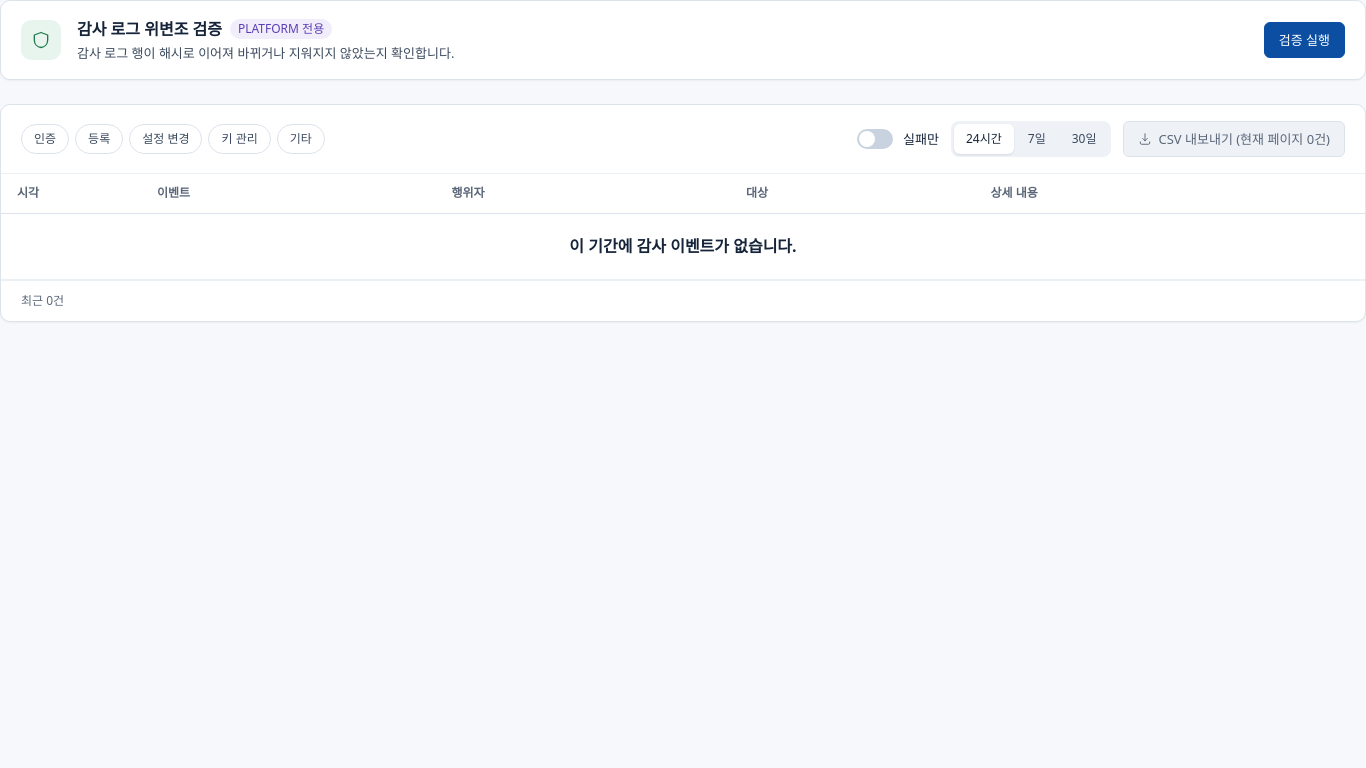
AuditTab V2 › 체인 검증 카드는 PLATFORM 전용, 검증 실행 → 결과 배지
The image size is (1366, 768).
Expected: the heading "감사 로그 위변조 검증" is shown, [77, 17, 222, 41]
Expected: the text "PLATFORM 전용" is shown, [230, 19, 332, 39]
Step 1. Click the button "검증 실행" → (1304, 40), box [1264, 22, 1345, 58]
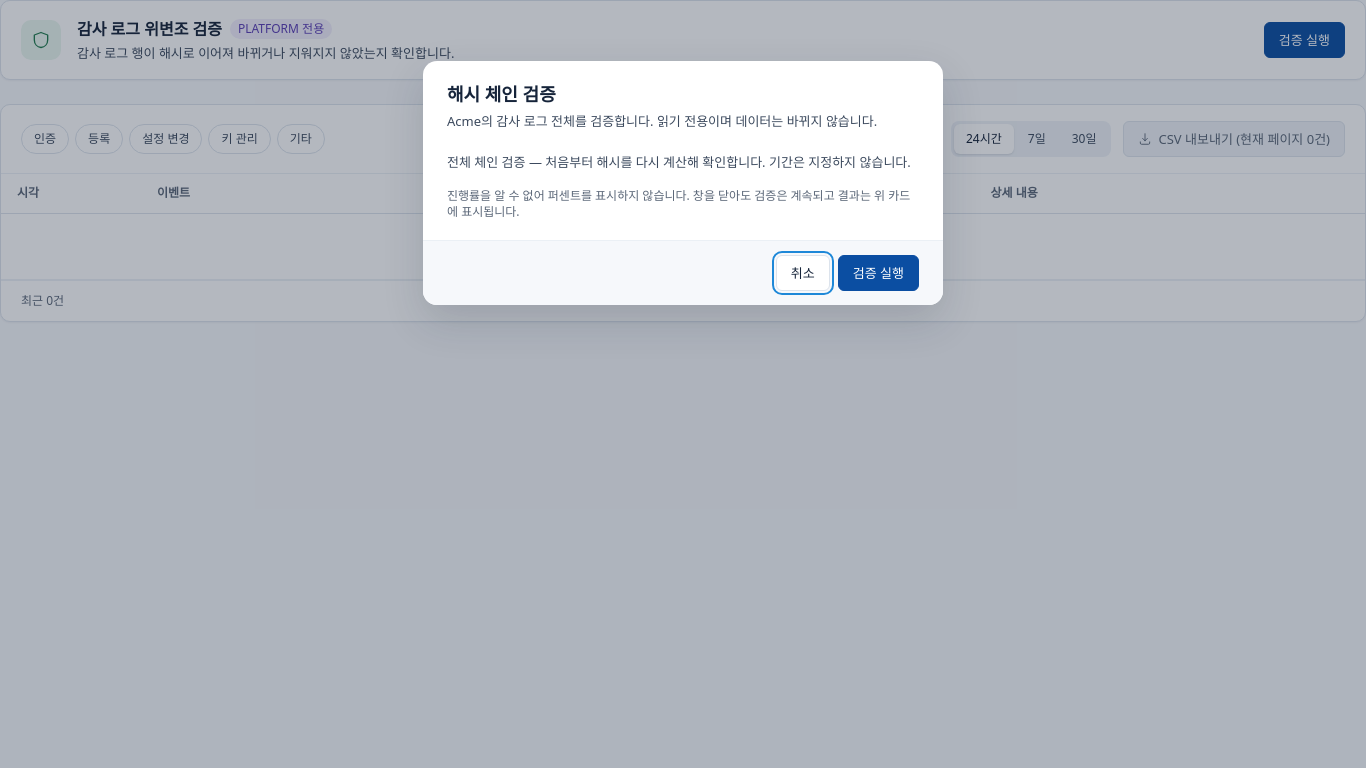
Now the dialog "해시 체인 검증" shows "전체 체인 검증", box [447, 153, 911, 171]
Step 2. Click the button "검증 실행" → (878, 273), box [838, 255, 919, 291]
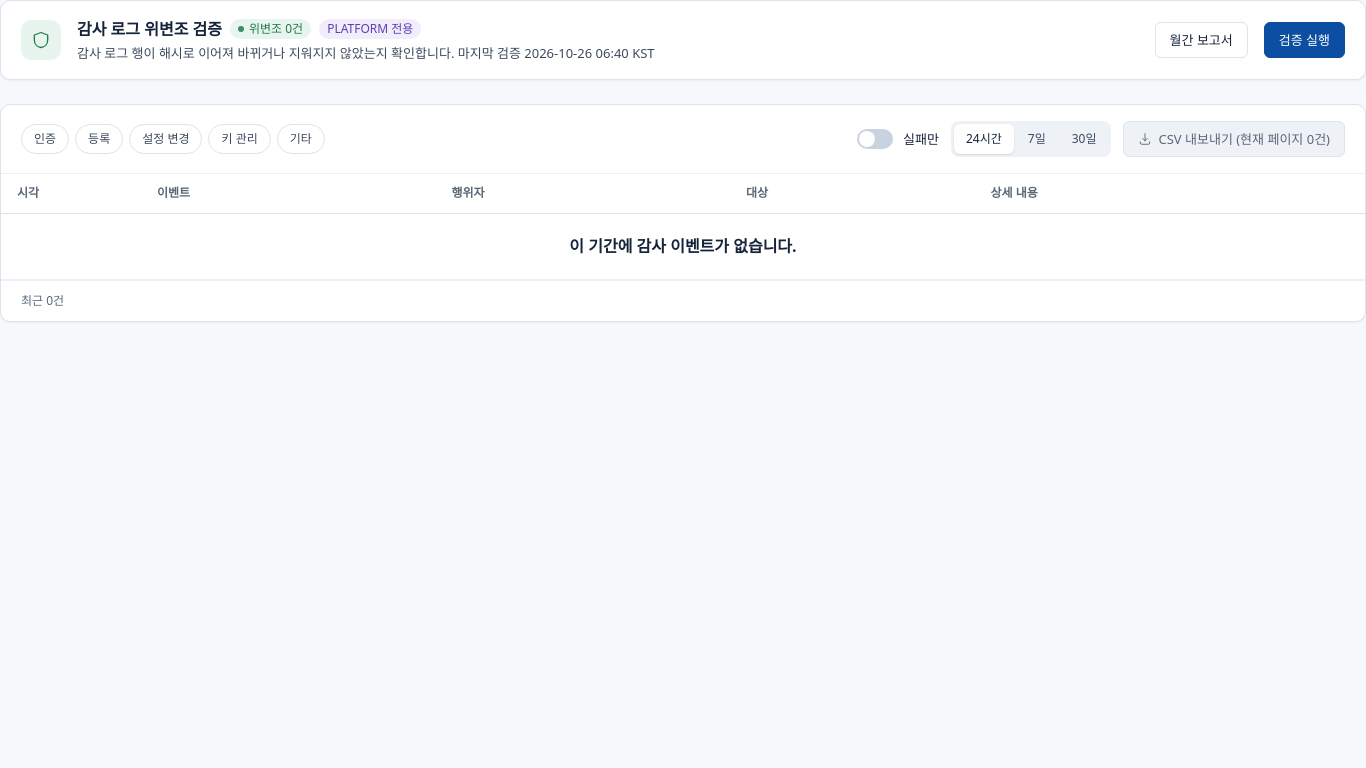
Now the text "위변조 0건" is shown, box [230, 19, 311, 39]
Now the heading "해시 체인 검증" is gone
